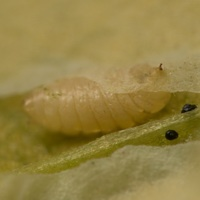insect: (181, 104, 196, 112), (165, 130, 177, 139)
